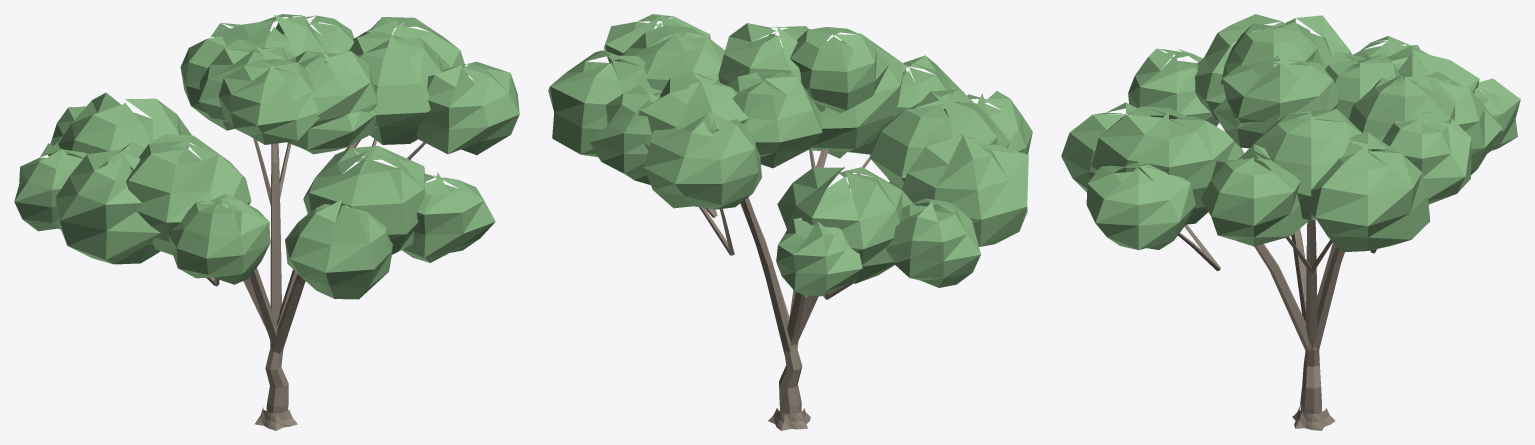
The model's file is mature-oak.glb.
3 views of the same model, side by side, from view 1: azimuth 30°, elevation 25°; view 2: azimuth 150°, elevation 25°; view 3: azimuth 270°, elevation 25° (orthographic). The views are drawn at different scales.
Parts seen in each view (by area): view 1: english-oak-mature; view 2: english-oak-mature; view 3: english-oak-mature.
Part boxes in pixels (x1,y1,x2,y2): english-oak-mature: (14, 14, 519, 430); english-oak-mature: (548, 14, 1032, 430); english-oak-mature: (1061, 14, 1520, 430).
Size of the model in its own units: 20.81 by 17.11 by 18.54.
